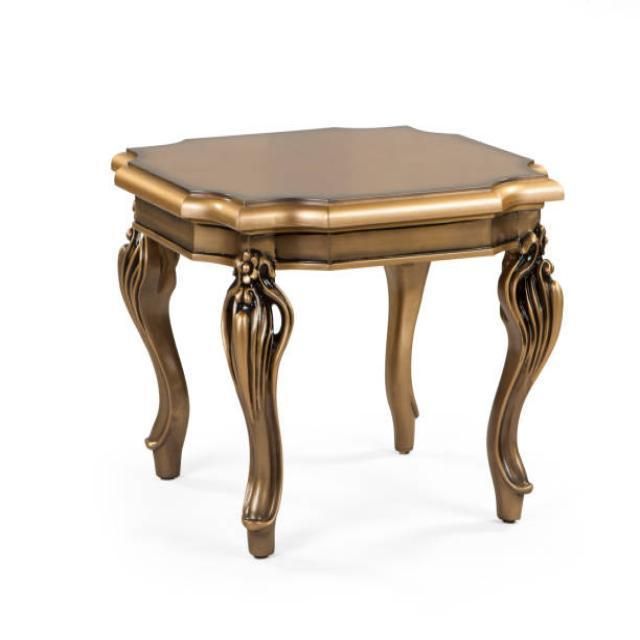table: (111, 124, 566, 558)
